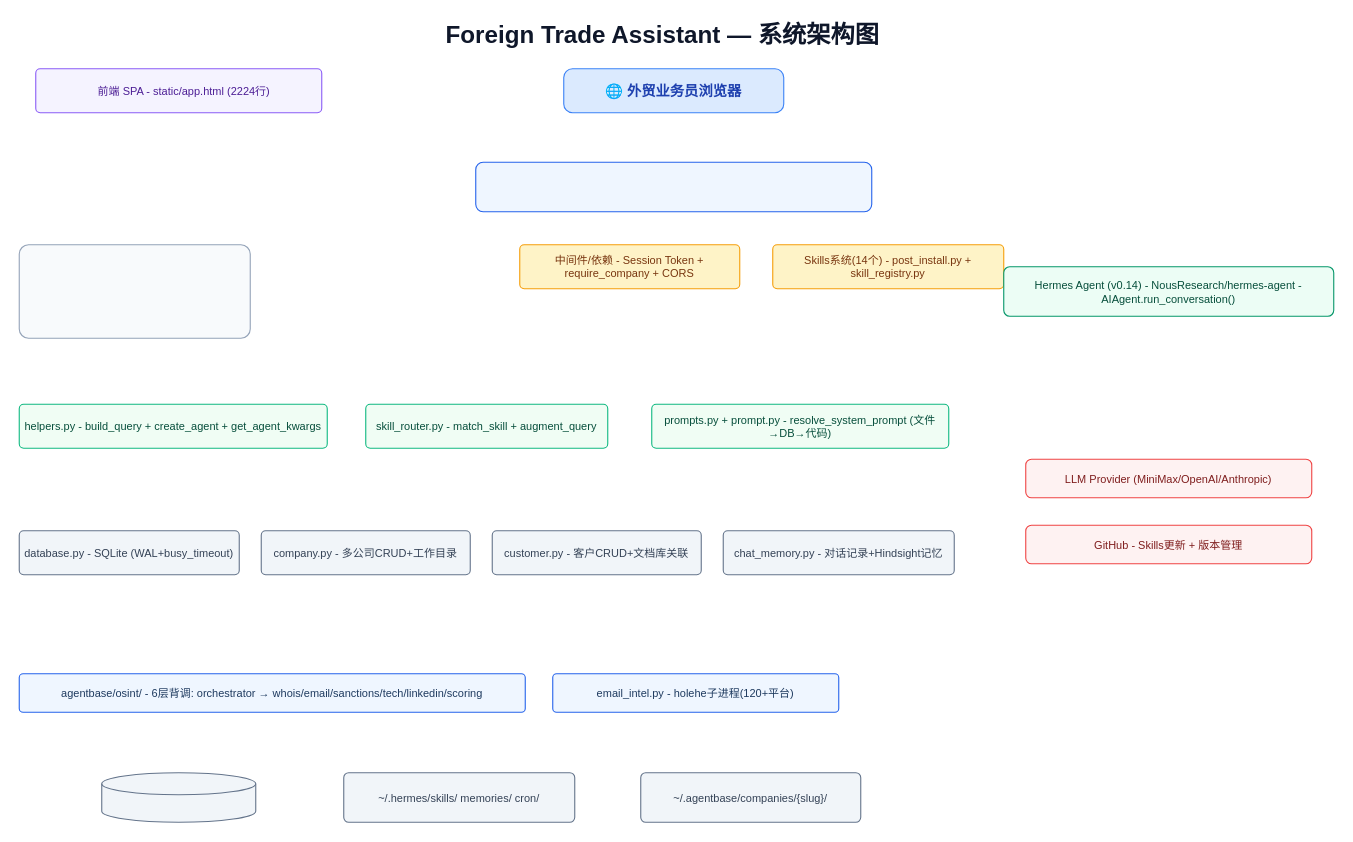
This 1353x842 diagram has some shape labels left out. The centre of each missing label's shape, as x and y in pixels:
API 路由 - /api/agentbase/*: [134,291]
FastAPI Server (server.py): [673,186]
~/.agentbase/data/agentbase.db: [178,797]
